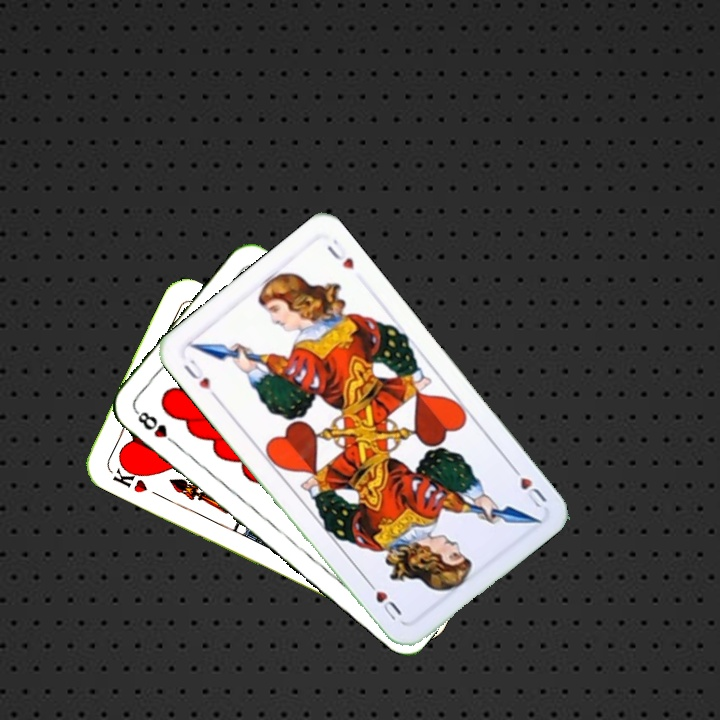H8: (131, 406, 181, 449)
HK: (108, 458, 151, 496)
HU: (506, 460, 550, 511), (179, 354, 221, 402)
